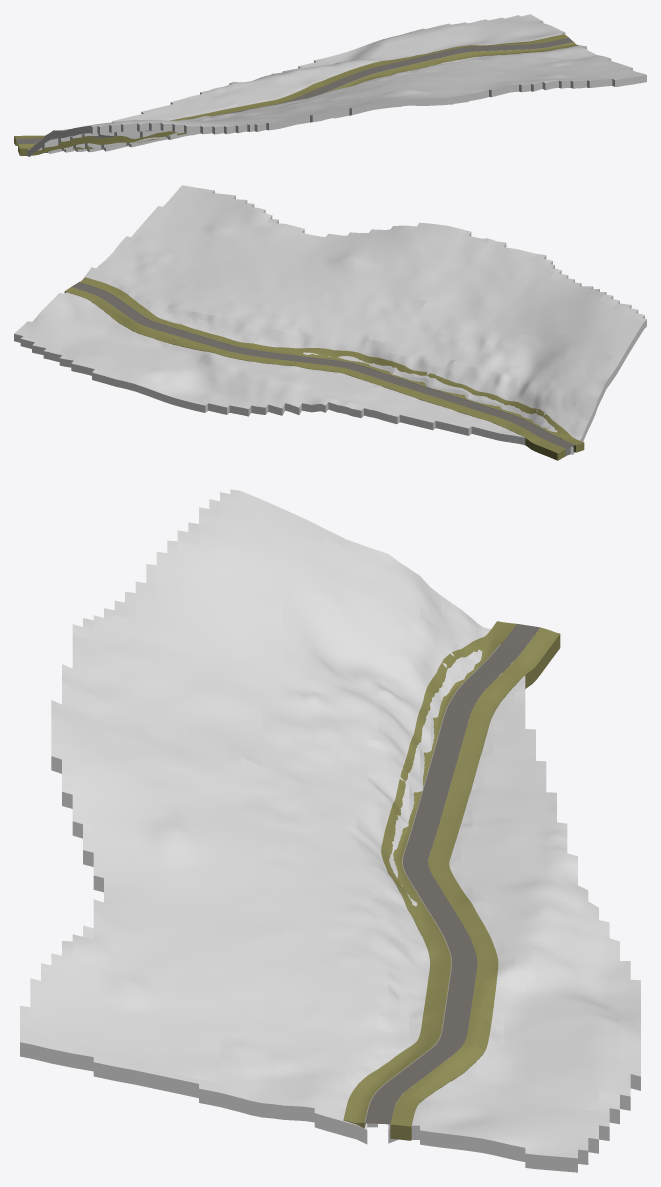
The model's file is conz_60.glb.
The picture shows the model from 3 angles, top to bottom: view 1: azimuth 30°, elevation 25°; view 2: azimuth 150°, elevation 25°; view 3: azimuth 270°, elevation 25°; orthographic projection. The views are drawn at different scales.
Visible parts, largest first — view 1: terrain60, verge60R, road60, verge60L; view 2: terrain60, verge60L, verge60R, road60, kerb60_50010; view 3: terrain60, road60, verge60L, verge60R.
Part boxes in pixels (x1=…): terrain60: x1=27, y1=14, x2=646, y2=156; verge60R: x1=18, y1=42, x2=578, y2=155; road60: x1=16, y1=37, x2=573, y2=143; verge60L: x1=14, y1=34, x2=568, y2=145; terrain60: x1=14, y1=185, x2=646, y2=455; verge60L: x1=64, y1=287, x2=565, y2=460; verge60R: x1=79, y1=277, x2=584, y2=452; road60: x1=71, y1=282, x2=575, y2=448; kerb60_50010: x1=79, y1=282, x2=560, y2=438; terrain60: x1=20, y1=489, x2=640, y2=1172; road60: x1=365, y1=624, x2=540, y2=1124; verge60L: x1=390, y1=627, x2=560, y2=1140; verge60R: x1=343, y1=621, x2=516, y2=1128.
Bounding box in the file's own units: 233 × 40.69 × 118.
